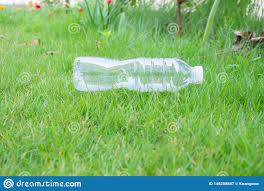plastic_bottle: (71, 53, 208, 101)
